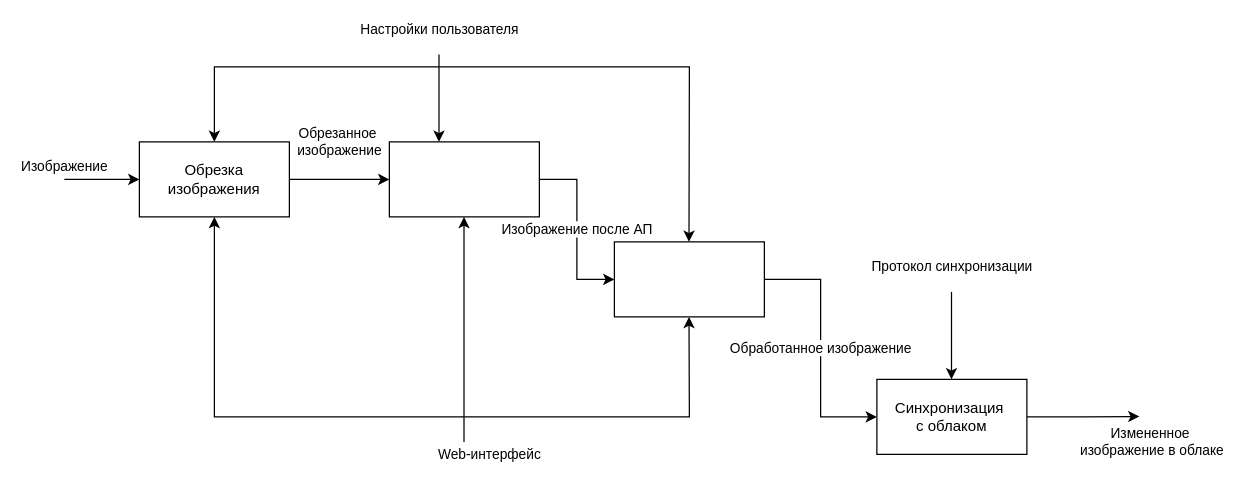
Some shapes in this 1246 by 484 pixel diagram are drawn without their labels. The box of each missing label's shape, as (x1, y1, x2, y2) in pixels:
Аффинные преобразования: (388, 141, 539, 217)
Применение фильтра: (613, 241, 764, 317)
